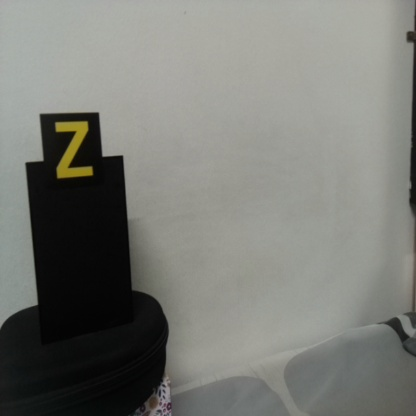id_15: (41, 114, 102, 190)
